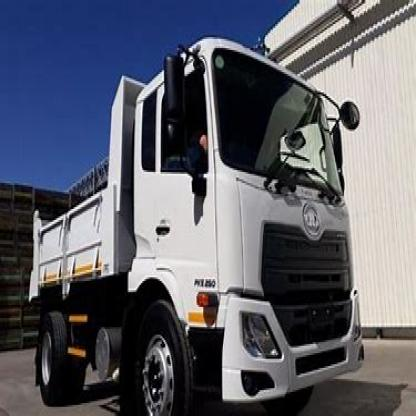dump_truck: (26, 37, 362, 414)
